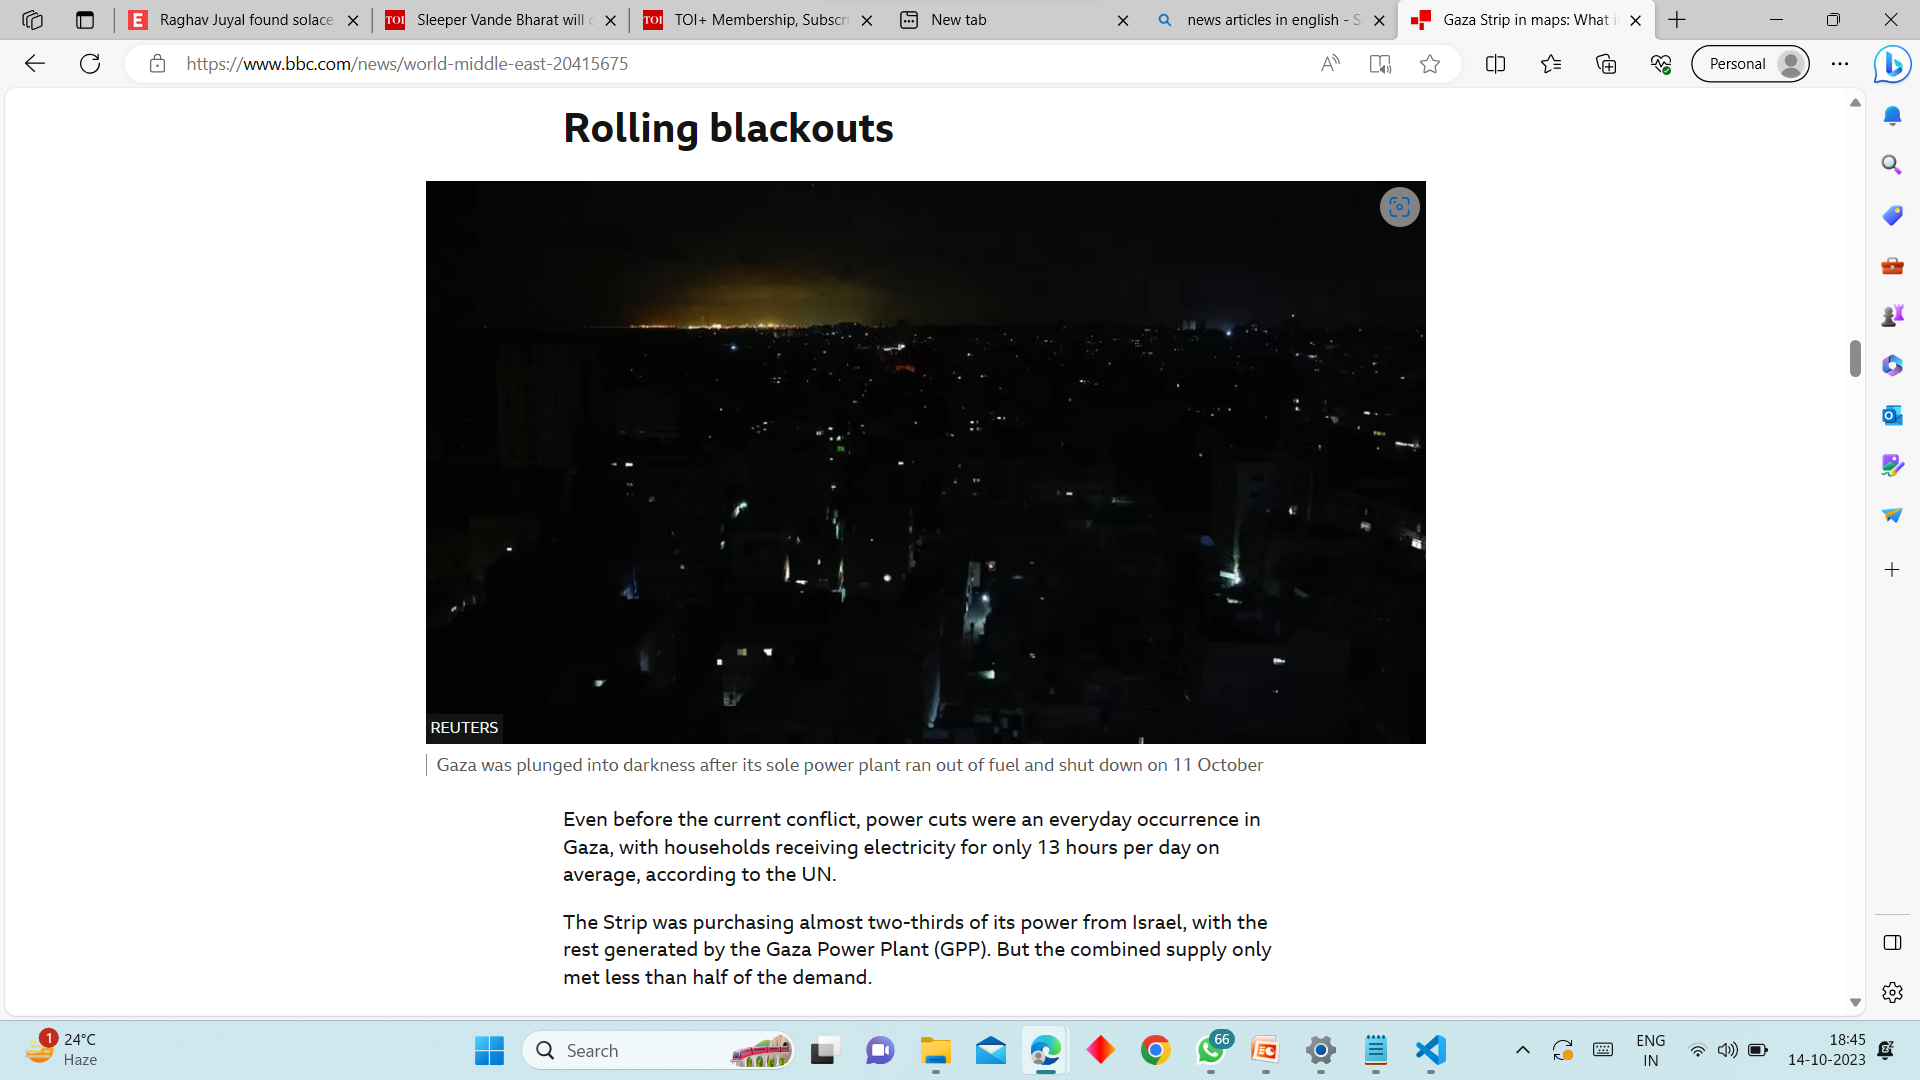Image: (430, 177, 1443, 749)
Paragraph: (555, 803, 1275, 894), (559, 913, 1286, 996), (436, 758, 1282, 787), (546, 100, 903, 158)
